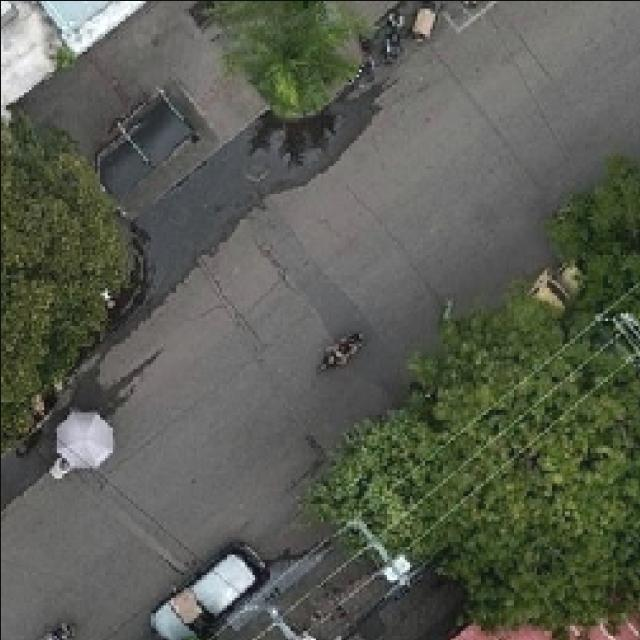vendedor_ambulante: (50, 405, 118, 472)
